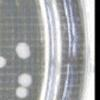white: (14, 40, 32, 61), (17, 70, 34, 88), (14, 85, 31, 99), (0, 55, 7, 69)
